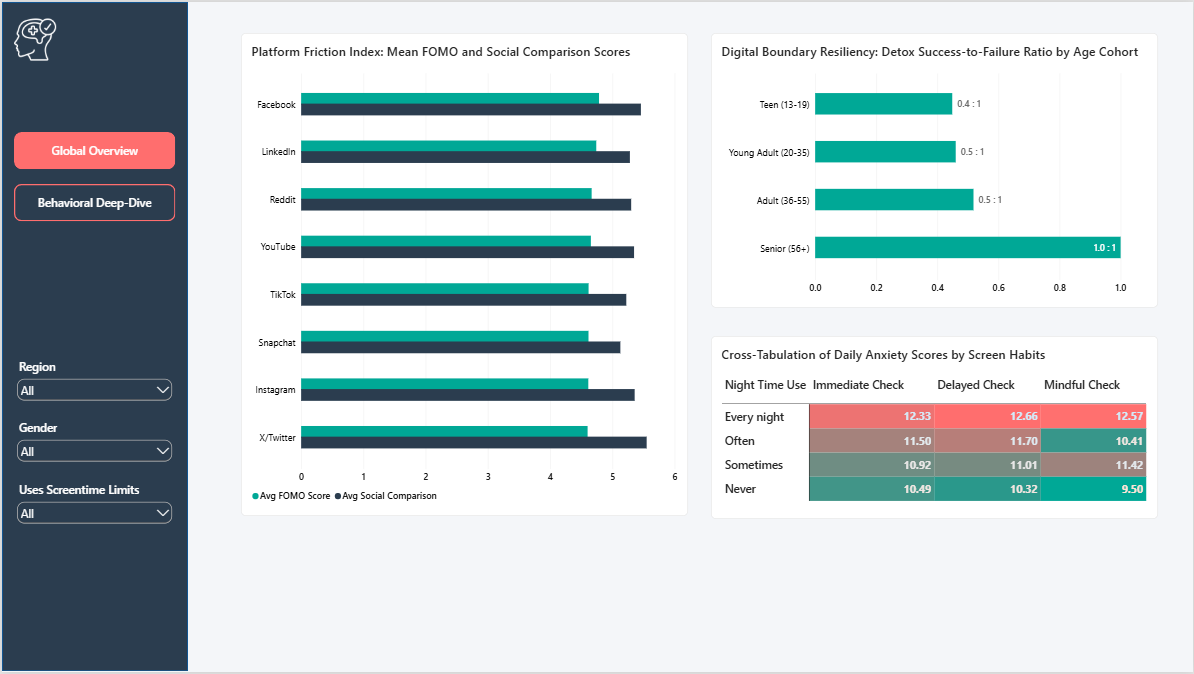

What the dashboard file says about the page in this screenshot:
{"tool":"powerbi","page":{"name":"Page 2","canvas":[1920,1080],"ordinal":1},"visuals":[{"type":"clusteredBarChart","title":"Platform Friction Index: Mean FOMO and Social Comparison Scores","fields":{"Category":["smmh_screentime.most_used_platform"],"Y":["_Measures.Avg FOMO Score","_Measures.Avg Social Comparison"]},"box":[385.7,50,721.4,778.6],"z":0},{"type":"shape","box":[0,0,300,1079.3],"z":1000},{"type":"clusteredBarChart","title":"Digital Boundary Resiliency: Detox Success-to-Failure Ratio by Age Cohort","fields":{"Category":["smmh_screentime.Age_Group"],"Y":["_Measures.Detox Success to Failure Ratio"]},"box":[1143.1,50,720.7,443.1],"z":2000},{"type":"pivotTable","title":"Cross-Tabulation of Daily Anxiety Scores by Screen Habits","fields":{"Columns":["smmh_screentime.Waking_Check_Group"],"Rows":["smmh_screentime.night_time_use"],"Values":["_Measures.Avg Anxiety Score"]},"box":[1142.9,539.3,720.7,294.8],"z":3000},{"type":"slicer","fields":{"Values":["smmh_screentime.region"]},"box":[19,575.9,260.3,110.3],"z":4000},{"type":"slicer","fields":{"Values":["smmh_screentime.gender"]},"box":[19,674.1,260.3,110.3],"z":5000},{"type":"slicer","fields":{"Values":["smmh_screentime.uses_screen_time_limits"]},"box":[19,774.1,260.3,110.3],"z":6000},{"type":"actionButton","title":"Global Overview","box":[19,210.3,260.3,60],"z":7000},{"type":"actionButton","title":"Behavioral Deep-Dive","box":[19,293.1,260.3,60],"z":8000},{"type":"image","box":[19.6,23.2,67.9,76.8],"z":9000}]}

Visuals, with their boxes on the page's 1920x1080 design canvas (x1, y1, x2, y2). These are canvas units, not pixel positions in the 1194x674 screenshot, which may show the page scaled, cropped or inside an application window:
"Platform Friction Index: Mean FOMO and Social Comparison Scores" clusteredBarChart: <bbox>386, 50, 1107, 829</bbox>
shape: <bbox>0, 0, 300, 1079</bbox>
"Digital Boundary Resiliency: Detox Success-to-Failure Ratio by Age Cohort" clusteredBarChart: <bbox>1143, 50, 1864, 493</bbox>
"Cross-Tabulation of Daily Anxiety Scores by Screen Habits" pivotTable: <bbox>1143, 539, 1864, 834</bbox>
slicer - smmh_screentime.region: <bbox>19, 576, 279, 686</bbox>
slicer - smmh_screentime.gender: <bbox>19, 674, 279, 784</bbox>
slicer - smmh_screentime.uses_screen_time_limits: <bbox>19, 774, 279, 884</bbox>
"Global Overview" actionButton: <bbox>19, 210, 279, 270</bbox>
"Behavioral Deep-Dive" actionButton: <bbox>19, 293, 279, 353</bbox>
image: <bbox>20, 23, 88, 100</bbox>
